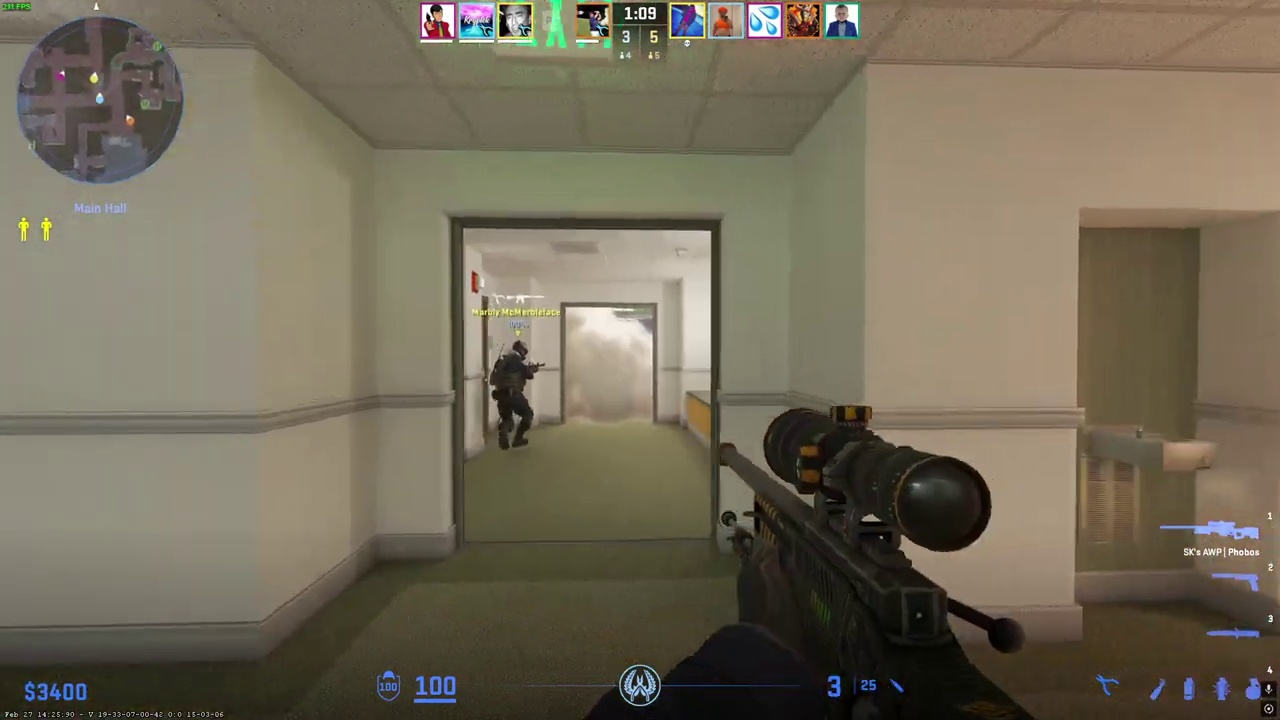CT: (490, 341, 537, 450)
